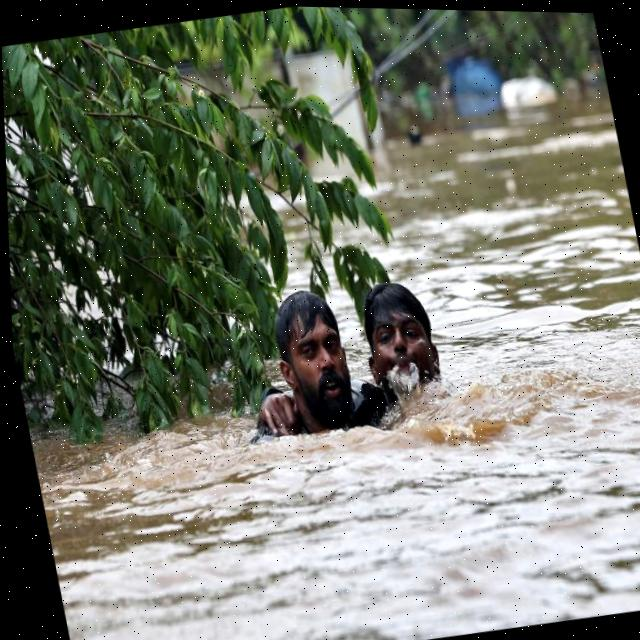civilian: (223, 264, 374, 478), (343, 254, 469, 428)
